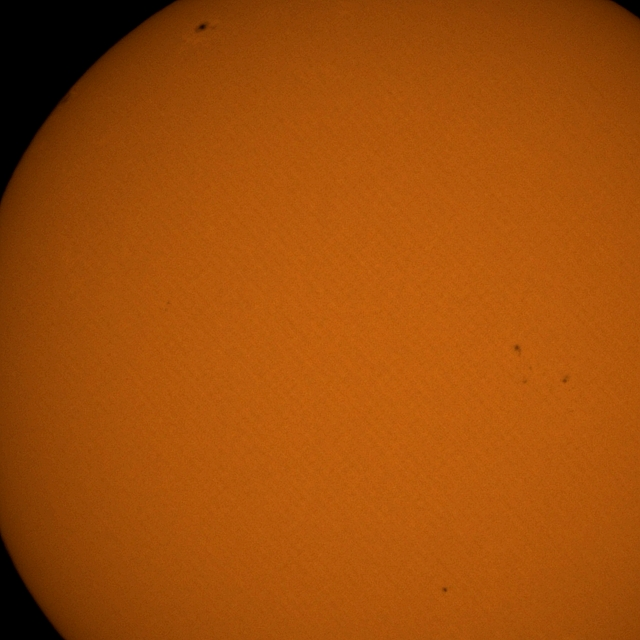sunspot: (193, 21, 213, 35), (560, 371, 574, 390), (513, 344, 522, 356), (441, 586, 448, 594)
